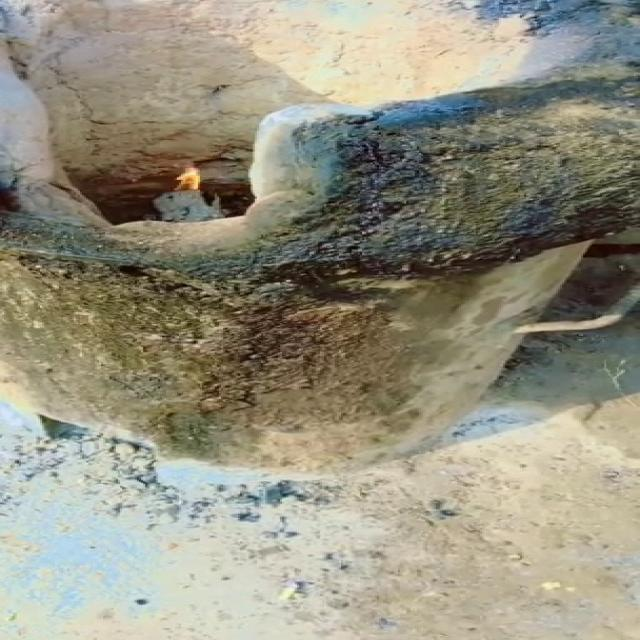Fire: (170, 163, 214, 198)
